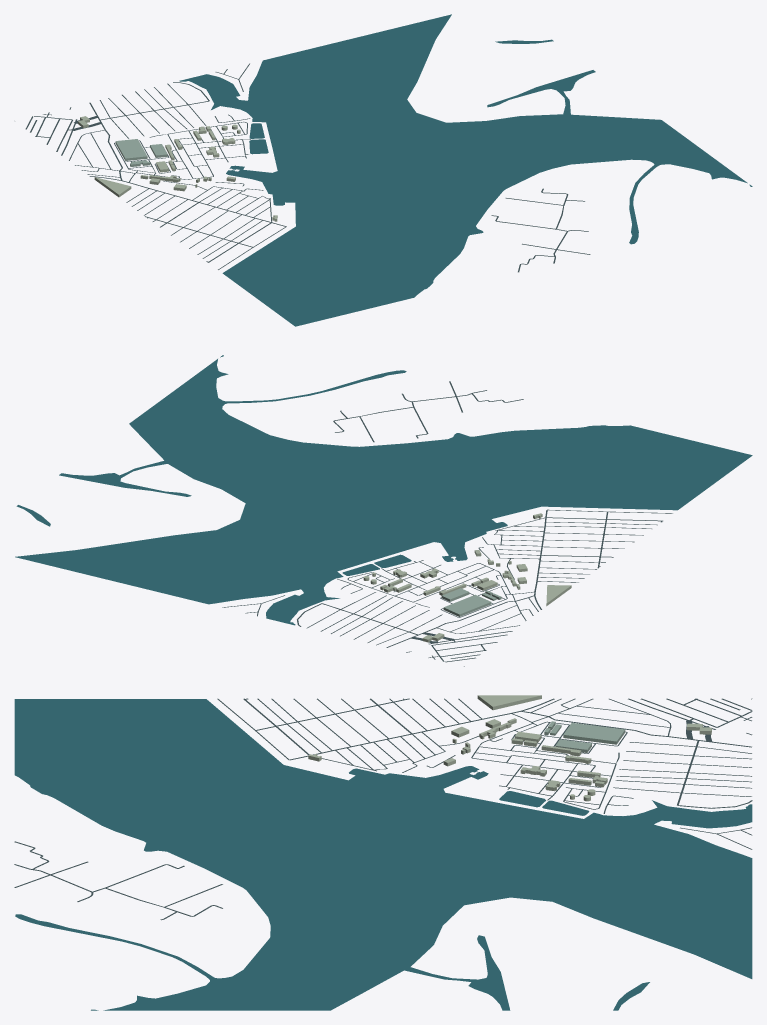
3 views of the same model, one above another, from view 1: azimuth 30°, elevation 25°; view 2: azimuth 150°, elevation 25°; view 3: azimuth 270°, elevation 25° (orthographic). The views are drawn at different scales.
Visible parts, largest first — view 1: water, street, building, building-tagged; view 2: water, street, building, building-tagged; view 3: water, street, building, building-tagged.
Part boxes in pixels (x1,y1,x2,y2): water: [179, 14, 752, 326]; street: [25, 63, 590, 272]; building: [78, 116, 277, 221]; building-tagged: [115, 139, 167, 166]; water: [15, 355, 752, 625]; street: [222, 381, 672, 666]; building: [363, 513, 571, 642]; building-tagged: [441, 588, 501, 616]; water: [14, 699, 752, 1010]; street: [14, 698, 752, 920]; building: [308, 695, 711, 801]; building-tagged: [544, 721, 625, 752].
Bounding box in the file's own units: 2002 × 10.7 × 2004.
